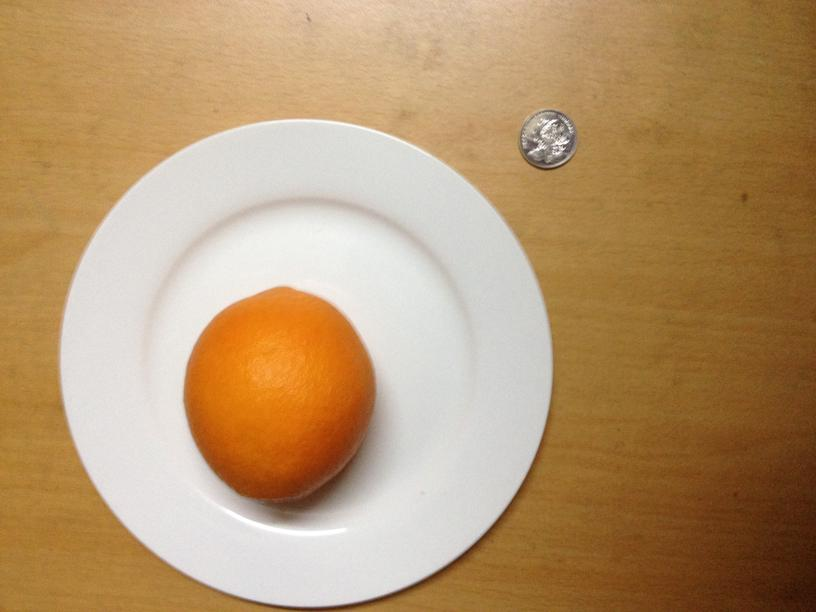coin: (518, 108, 577, 169)
orange: (181, 282, 376, 499)
